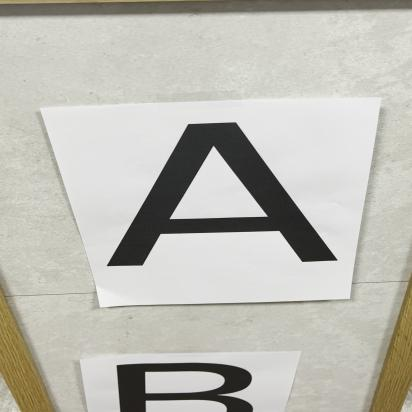seat: (90, 107, 358, 287)
